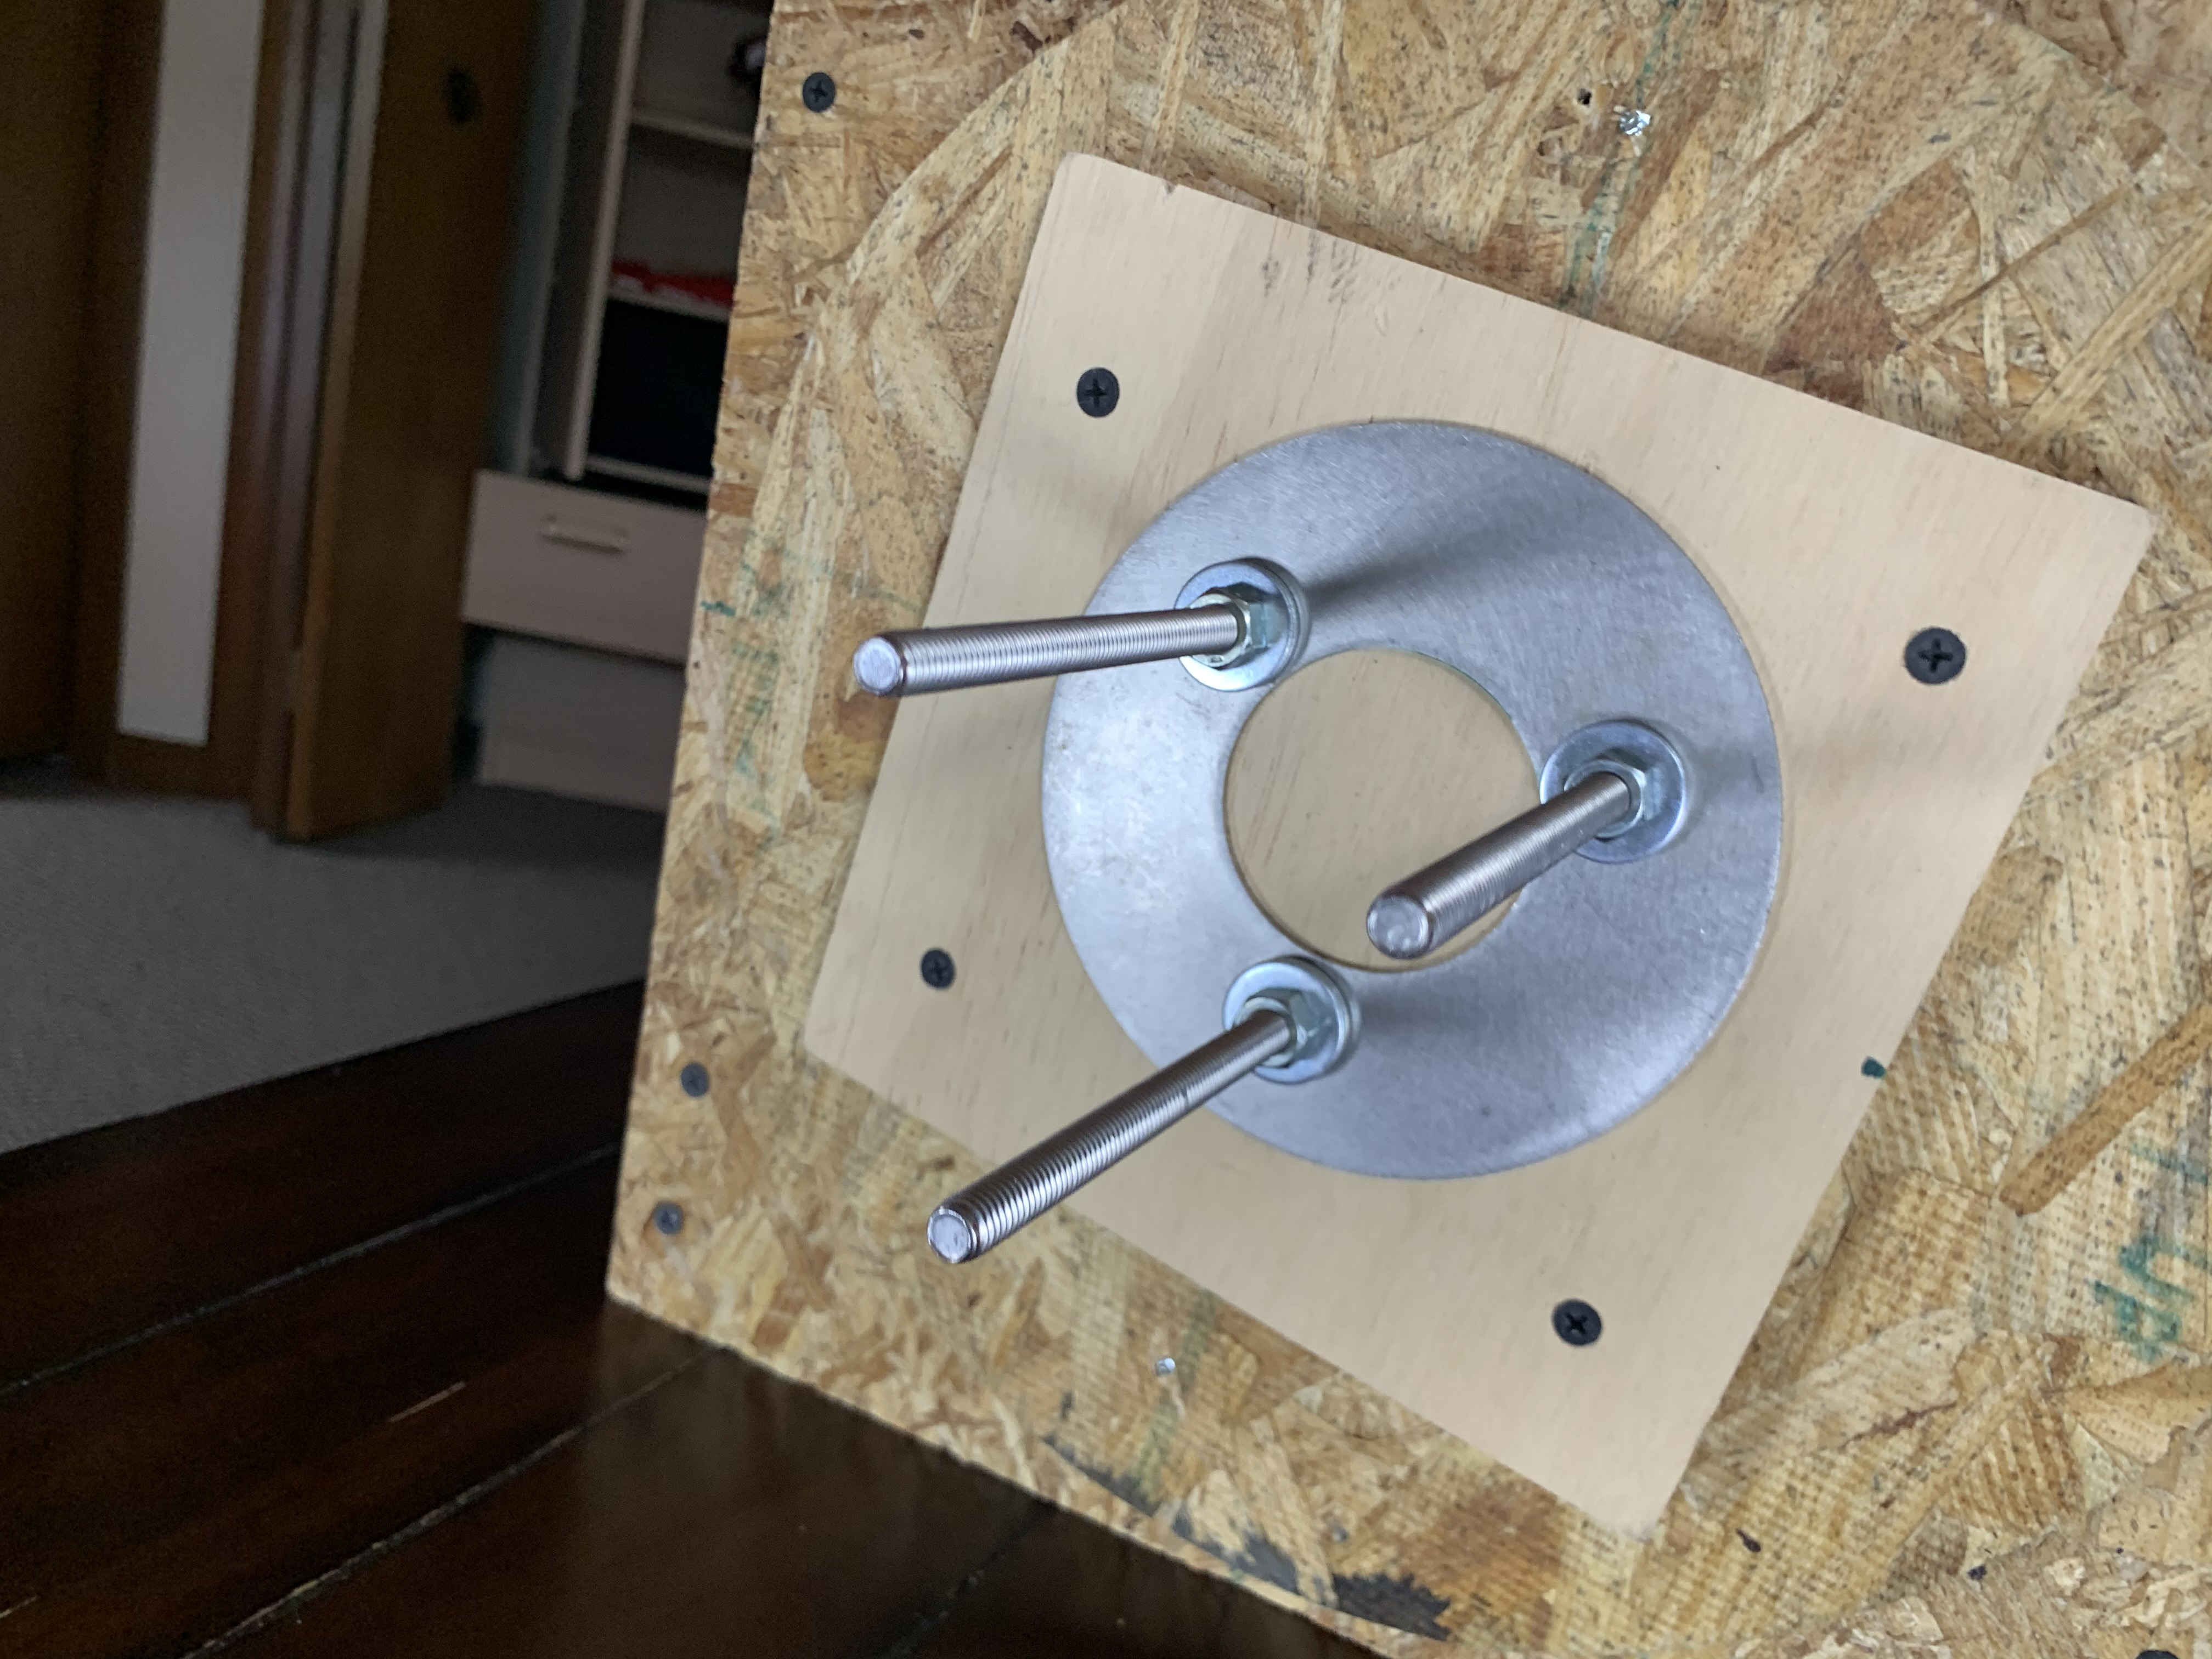bolt: (1534, 720, 1693, 864), (1174, 558, 1310, 692), (1223, 955, 1362, 1080)
